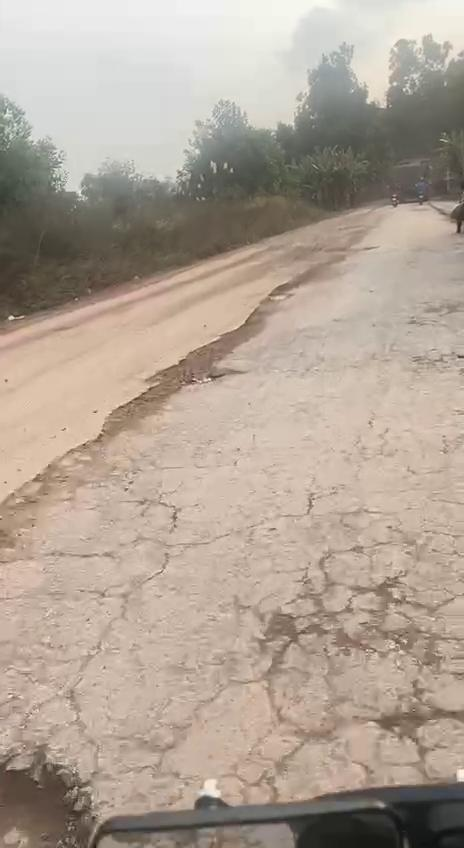pothole: (0, 732, 98, 848)
